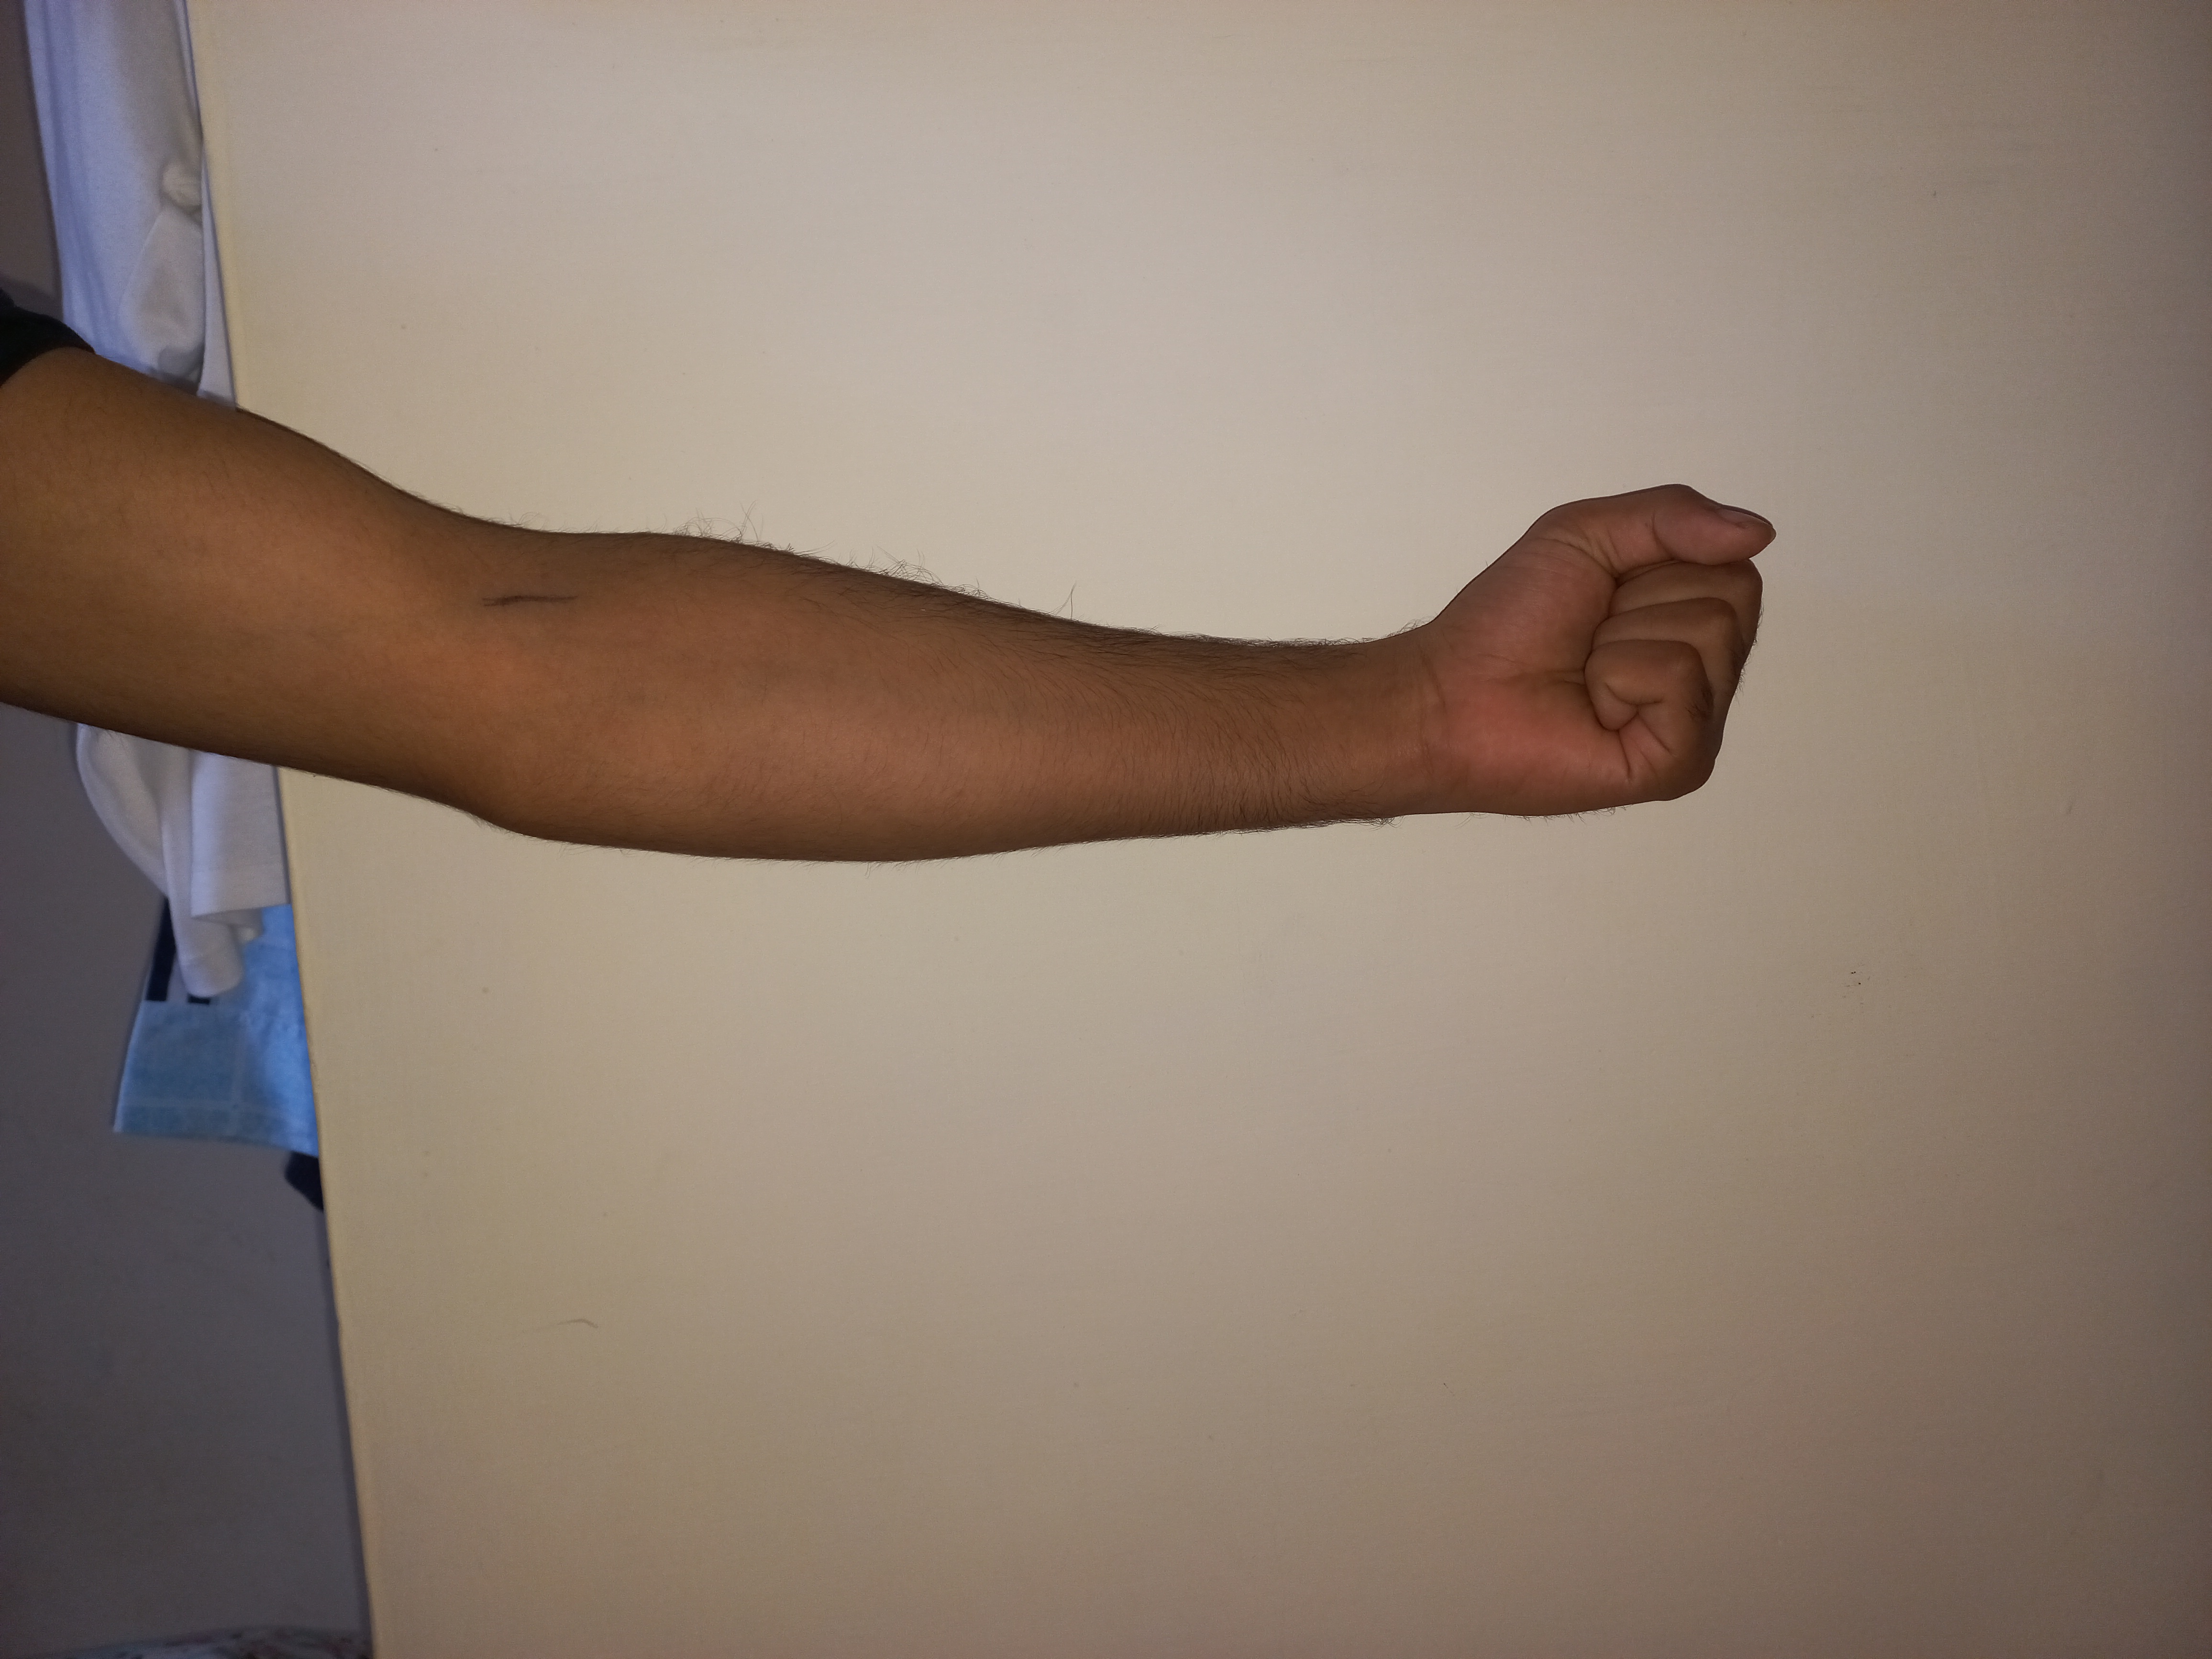vein: (465, 575, 601, 622)
